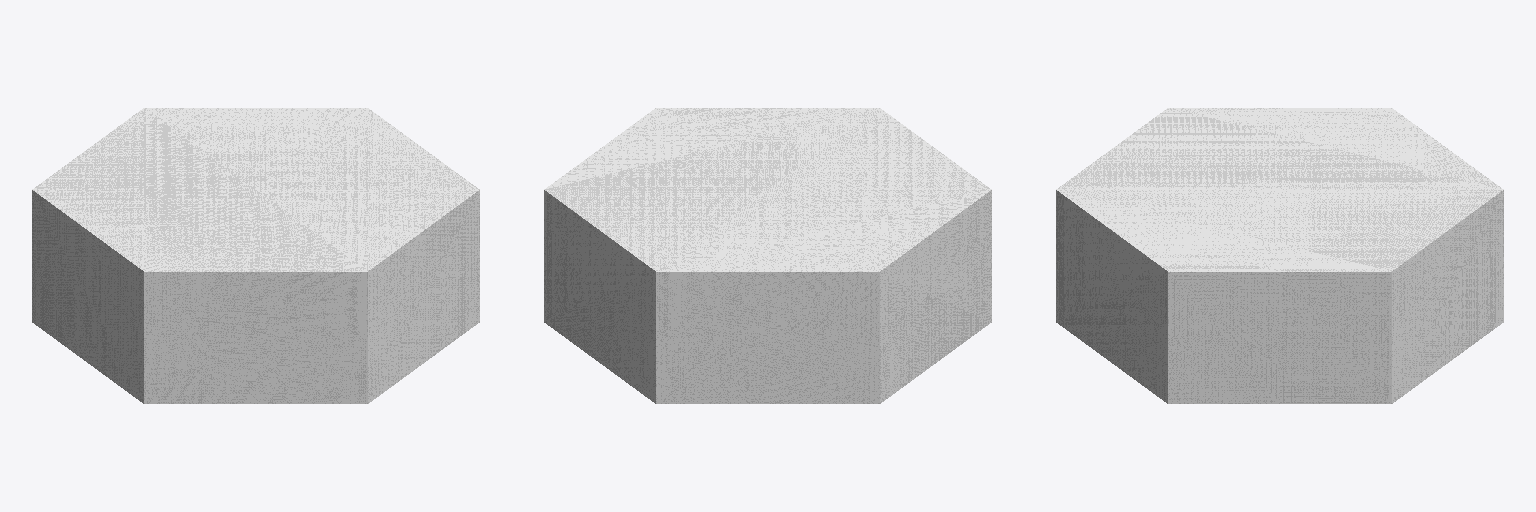
Rendered from WashBottle_Top_Highlight.obj.
The picture shows the model from 3 angles: view 1: azimuth 30°, elevation 25°; view 2: azimuth 150°, elevation 25°; view 3: azimuth 270°, elevation 25°; orthographic projection.
Parts seen in each view (by area): view 1: Mesh1 Model; view 2: Mesh1 Model; view 3: Mesh1 Model.
Boxes of the visible parts, x1=… form: Mesh1 Model: x1=32, y1=108, x2=479, y2=403; Mesh1 Model: x1=544, y1=108, x2=991, y2=403; Mesh1 Model: x1=1056, y1=108, x2=1503, y2=403.
Size of the model in its own units: 0.0287 by 0.0108 by 0.0331.